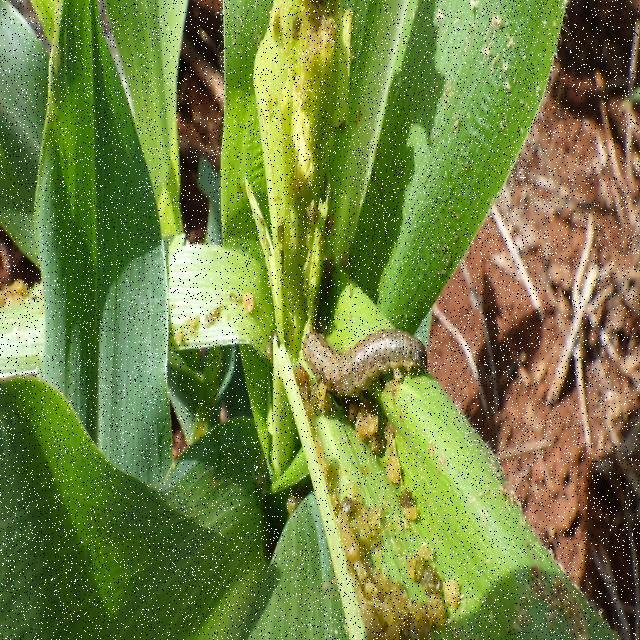army worm: (279, 284, 463, 411)
